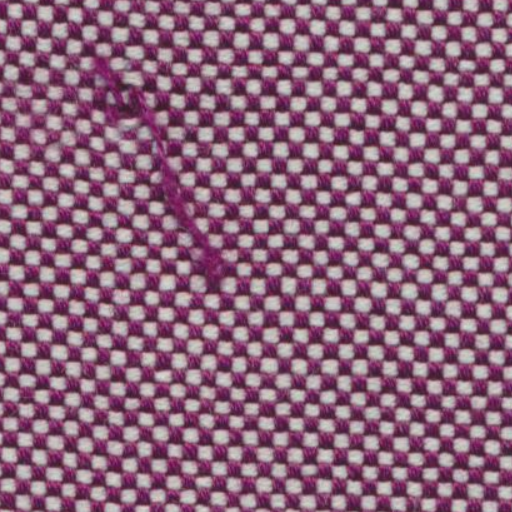DuanSha: (64, 35, 232, 290)
